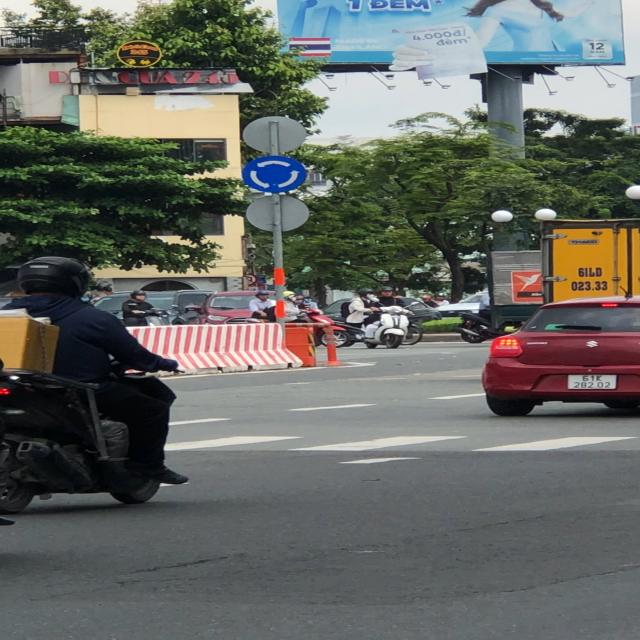Bien bao noi giao nhau chay theo vong xuyen: (244, 152, 316, 196)
